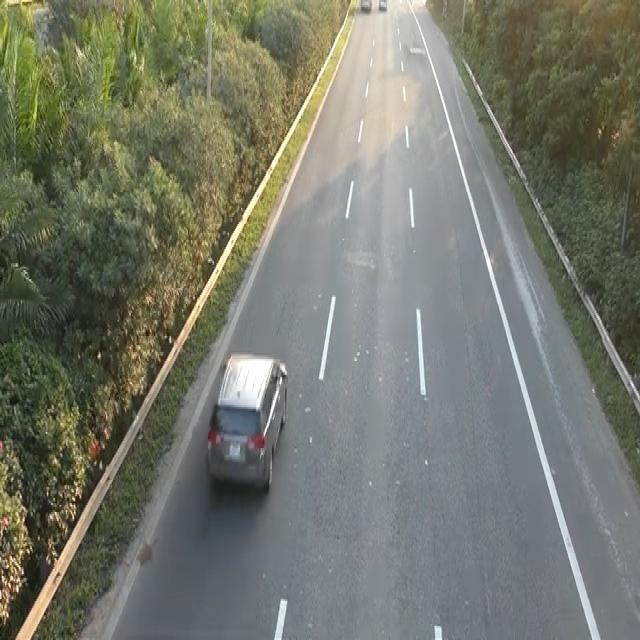car: (204, 347, 289, 494)
